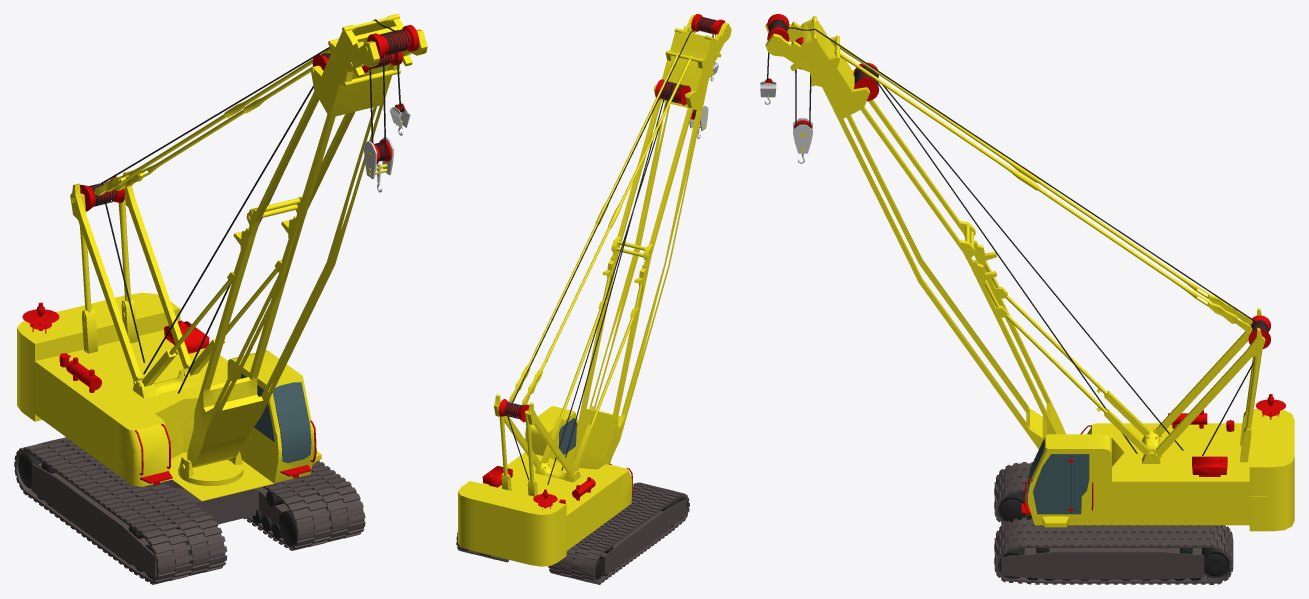
The model's file is crawler-crane.glb.
The picture shows the model from 3 angles, left to right: view 1: azimuth 30°, elevation 25°; view 2: azimuth 150°, elevation 25°; view 3: azimuth 270°, elevation 25°; orthographic projection. The views are drawn at different scales.
Visible parts, largest first — view 1: Object018_03 - Default_0, Object021_03 - Default_0, Object015_04 - Default_0, Object018_01 - Default_0, Cylinder003, Plane006, Object018_02 - Default_0, Object015_01 - Default_0, Object018_Default_0; view 2: Object018_03 - Default_0, Object021_03 - Default_0, Object015_04 - Default_0, Object018_01 - Default_0, Object018_02 - Default_0, Cylinder003, Plane006, Object015_01 - Default_0; view 3: Object018_03 - Default_0, Object021_03 - Default_0, Object015_04 - Default_0, Object018_01 - Default_0, Plane006, Object015_01 - Default_0, Cylinder003, Object018_02 - Default_0, Object018_Default_0.
Part boxes in pixels (left/top/right/bottom): Object018_03 - Default_0: left=70, top=14, right=427, bottom=485; Object021_03 - Default_0: left=17, top=292, right=321, bottom=501; Object015_04 - Default_0: left=14, top=437, right=365, bottom=584; Object018_01 - Default_0: left=89, top=19, right=410, bottom=393; Cylinder003: left=22, top=302, right=316, bottom=485; Plane006: left=241, top=373, right=311, bottom=462; Object018_02 - Default_0: left=80, top=25, right=419, bottom=211; Object015_01 - Default_0: left=18, top=446, right=331, bottom=579; Object018_Default_0: left=85, top=107, right=410, bottom=352; Object018_03 - Default_0: left=494, top=15, right=731, bottom=496; Object021_03 - Default_0: left=458, top=406, right=632, bottom=566; Object015_04 - Default_0: left=456, top=482, right=689, bottom=584; Object018_01 - Default_0: left=504, top=17, right=717, bottom=484; Object018_02 - Default_0: left=498, top=14, right=725, bottom=422; Cylinder003: left=482, top=463, right=633, bottom=509; Plane006: left=559, top=418, right=577, bottom=454; Object015_01 - Default_0: left=571, top=493, right=687, bottom=580; Object018_03 - Default_0: left=765, top=14, right=1265, bottom=463; Object021_03 - Default_0: left=1028, top=409, right=1294, bottom=531; Object015_04 - Default_0: left=994, top=462, right=1233, bottom=584; Object018_01 - Default_0: left=766, top=19, right=1268, bottom=455; Plane006: left=1027, top=439, right=1089, bottom=514; Object015_01 - Default_0: left=998, top=492, right=1229, bottom=580; Cylinder003: left=1021, top=394, right=1285, bottom=515; Object018_02 - Default_0: left=765, top=14, right=1270, bottom=348; Object018_Default_0: left=760, top=81, right=1244, bottom=462.
Size of the model in its own units: 2.83 by 8.31 by 7.71.
